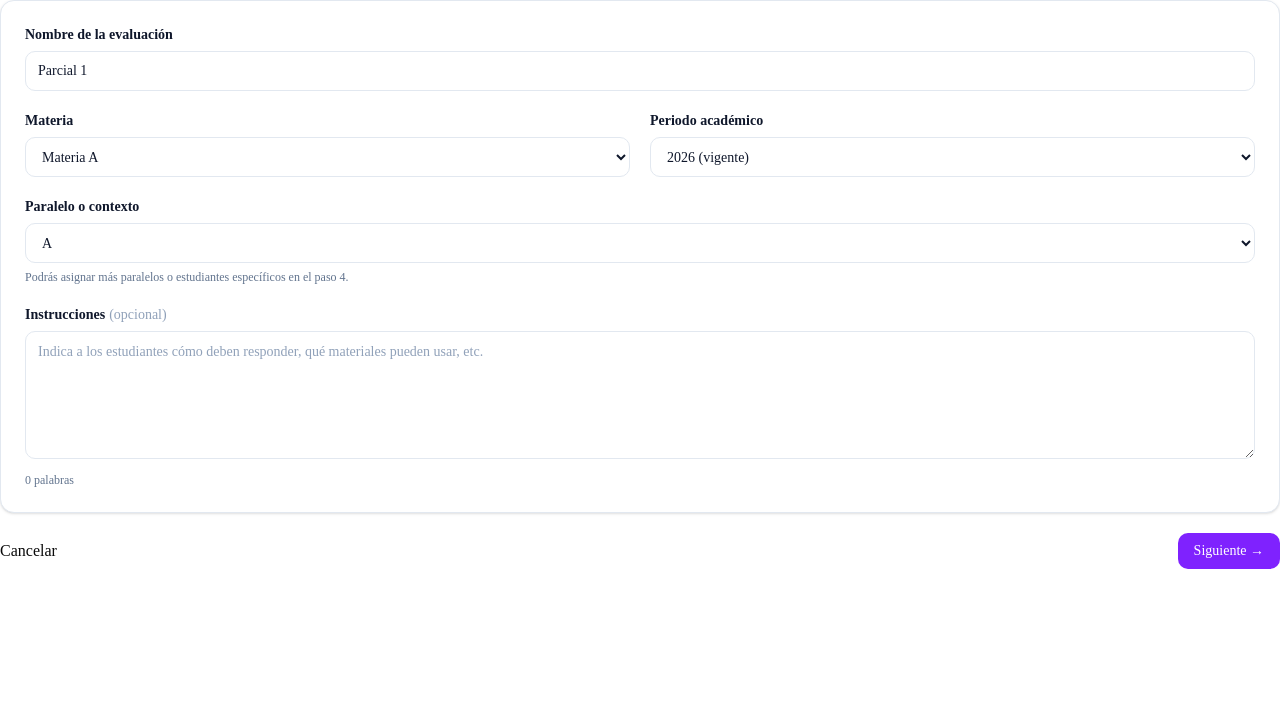
Test: EvaluacionInfoForm — advertencia de reinicio de asignaciones › advierte al cambiar la materia
Select "Materia C" in the dropdown labelled "Materia". click: (328, 157)
box: [25,137,630,177]
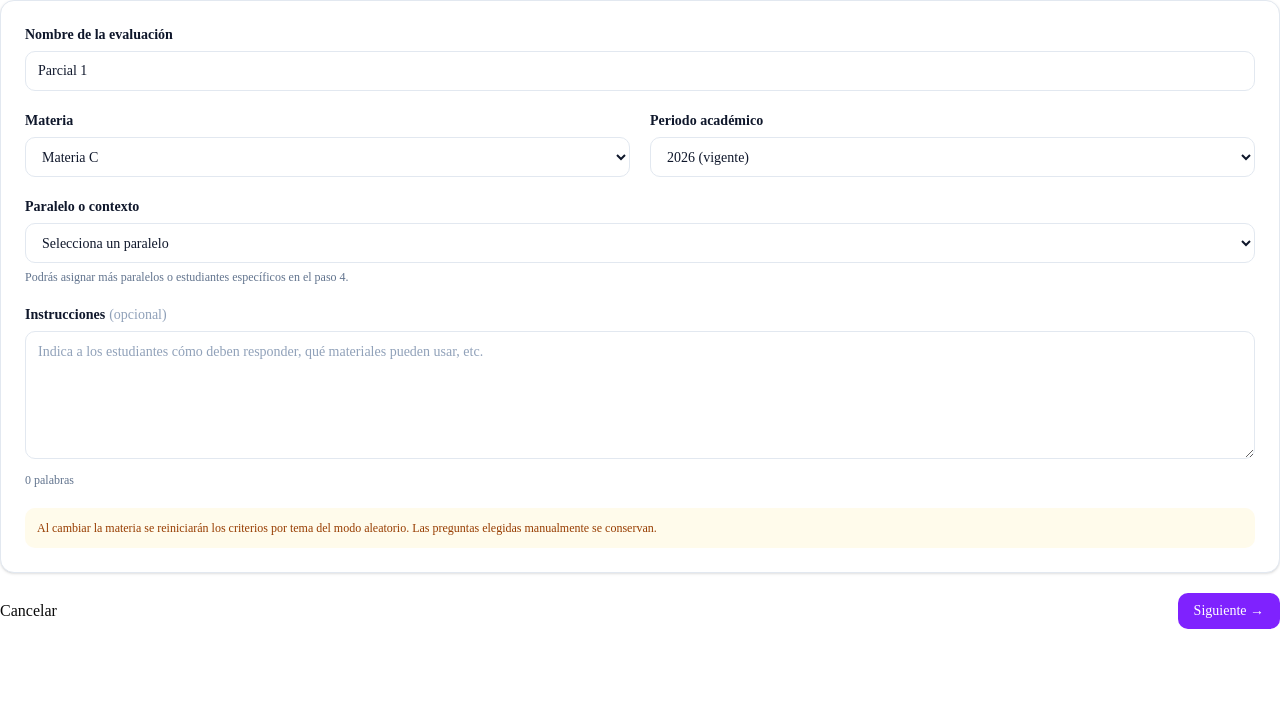
Select "C" in the dropdown labelled "Paralelo o contexto". click: (640, 243)
box: [25,223,1255,263]
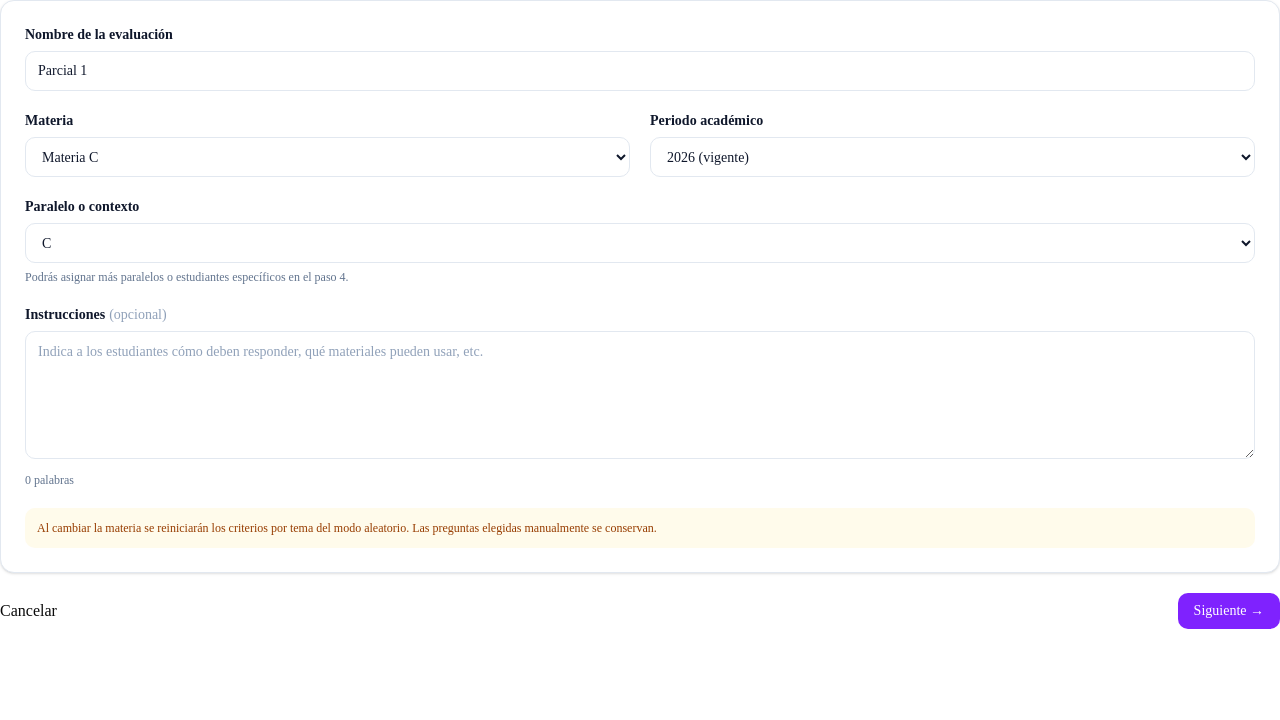
Click the button "Siguiente →". click: (1229, 611)
box: [1178,593,1279,629]
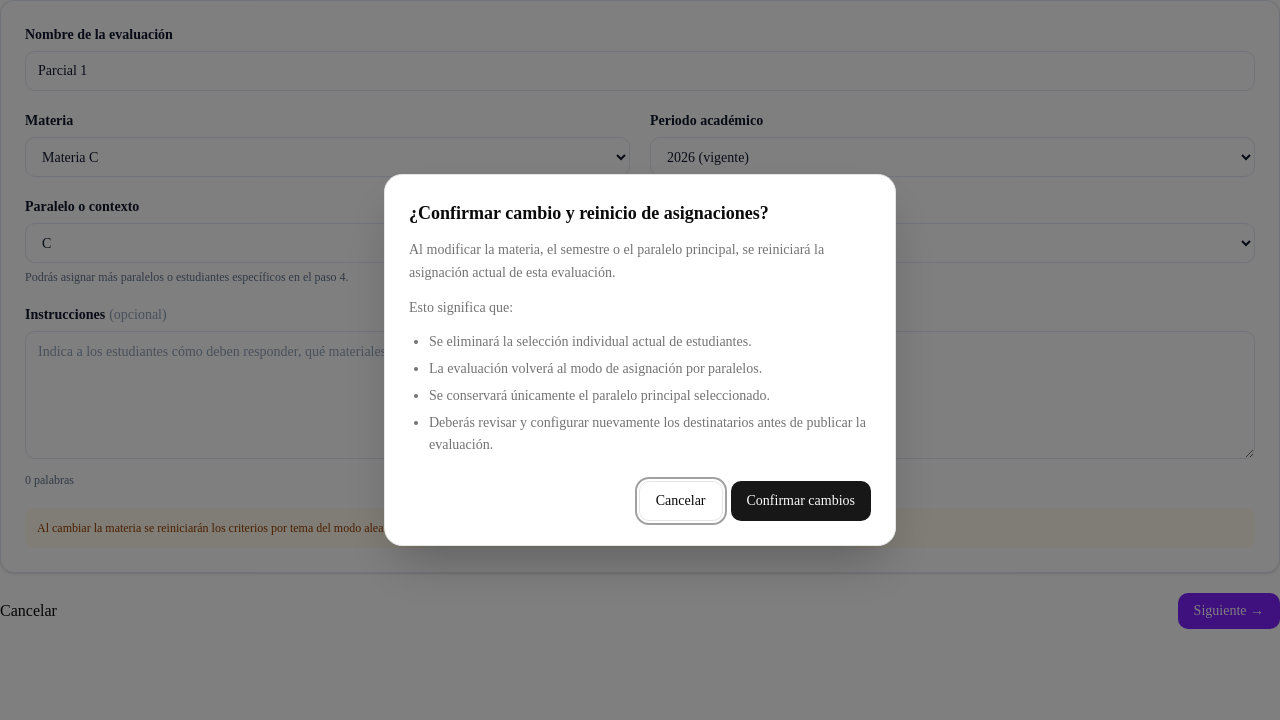
Expected: the dialog is shown, [384,174,896,546]
Expected: the text "se reiniciará la asignación actual" is shown, [409,242,824,280]
